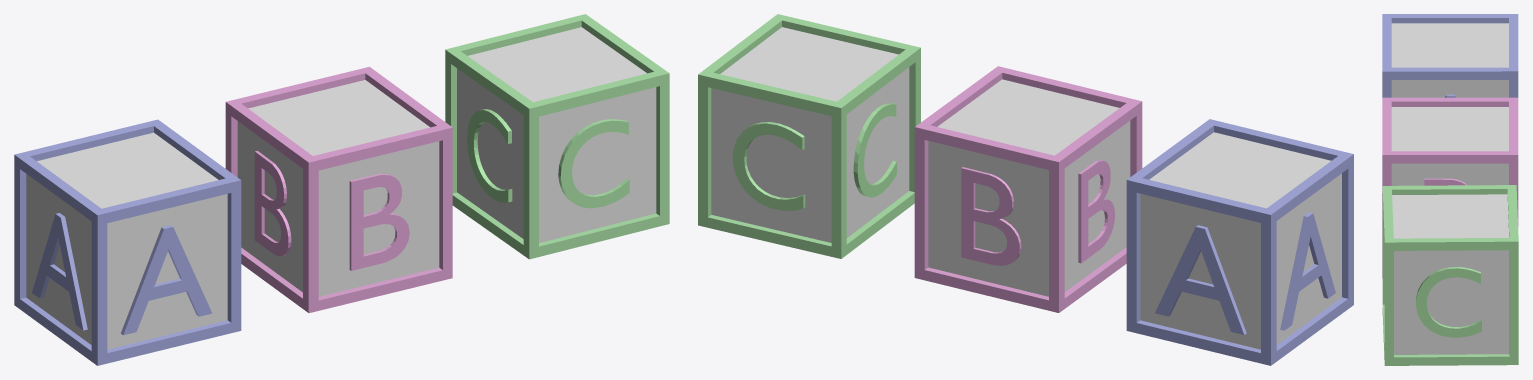
File: blocks2.fbx
The picture shows the model from 3 angles, left to right: view 1: azimuth 30°, elevation 25°; view 2: azimuth 150°, elevation 25°; view 3: azimuth 270°, elevation 25°; orthographic projection. The views are drawn at different scales.
Visible parts, largest first — view 1: A, B, C; view 2: A, B, C; view 3: C, B, A.
Part boxes in pixels (x1,y1,x2,y2): A: [14, 119, 241, 365]; B: [225, 66, 452, 312]; C: [445, 14, 669, 259]; A: [1126, 119, 1353, 365]; B: [914, 66, 1142, 312]; C: [698, 14, 920, 258]; C: [1382, 185, 1518, 365]; B: [1382, 97, 1518, 278]; A: [1382, 14, 1518, 97].
Bounding box in the file's own units: 0.7972 × 0.2015 × 0.2005.
